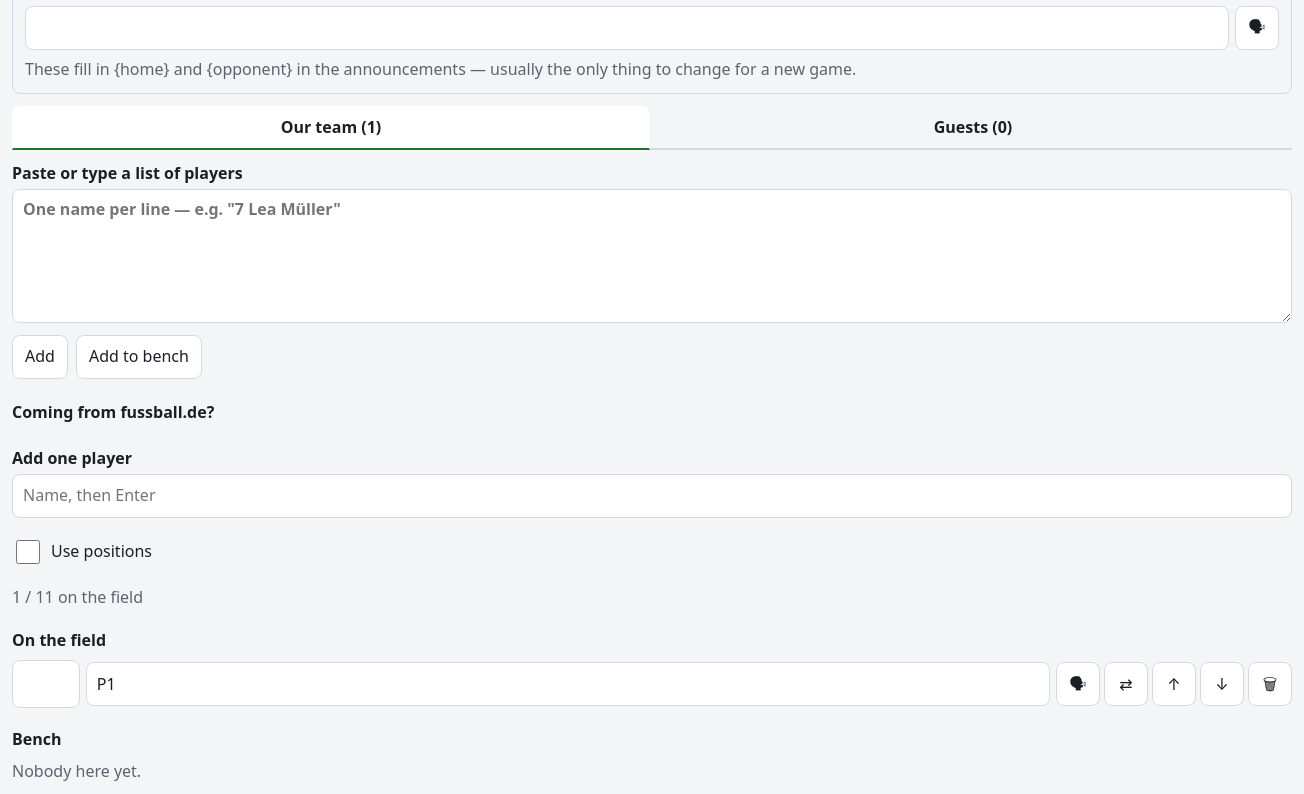
Test case: 🗣 toggles a "Say it like…" input; typing stores sayAs; the button is highlighted when a hint exists
Later steps or results of the test are not shown.
(page scrolled)
Click the button named "Pronunciation: ".
click(1078, 684)  # box [1056, 662, 1100, 706]
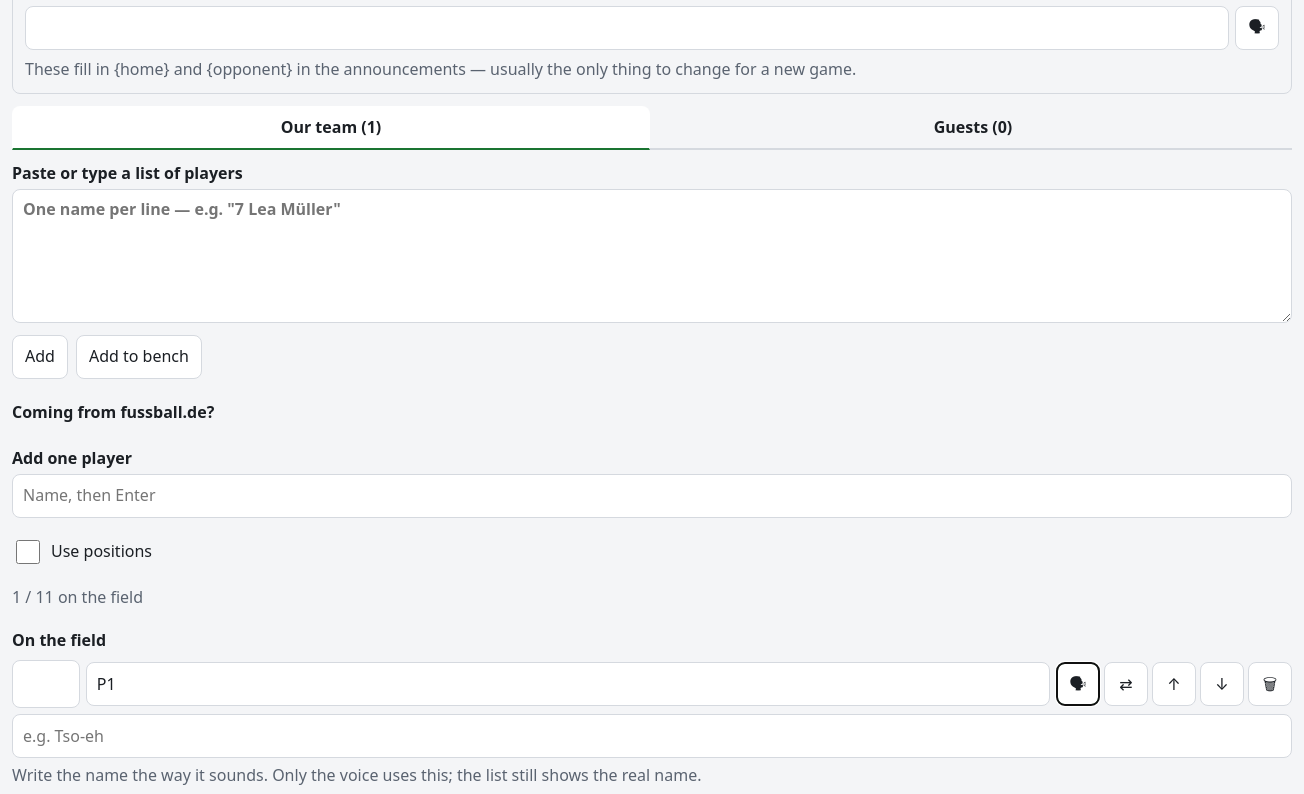
Expected: the text "Write the name the way it sounds" is shown, [12, 764, 702, 786]
Type "Tso-eh" into the field named "Say it like…: ".
click(652, 736); type("Tso-eh")  # box [12, 714, 1292, 758]
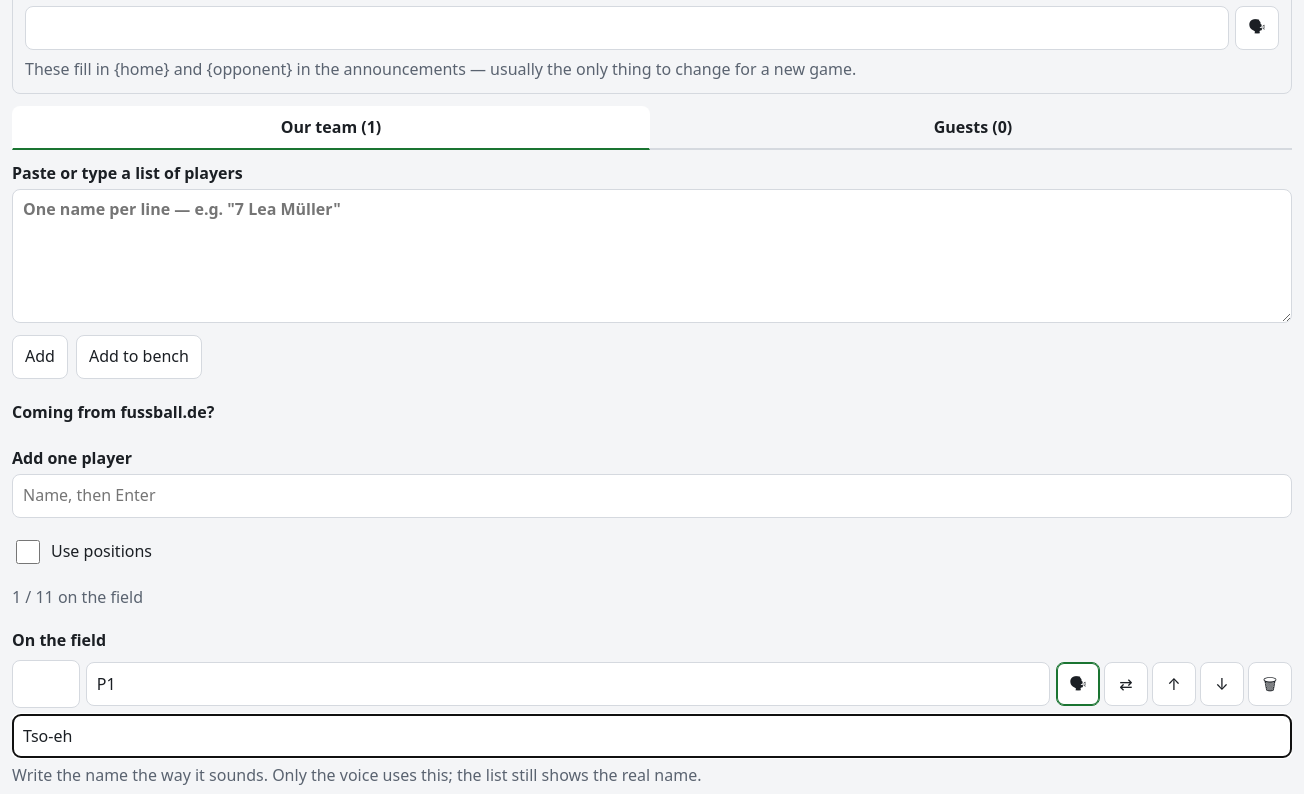
Expected: the button named "Pronunciation: " has class "has-hint", [1056, 662, 1100, 706]
